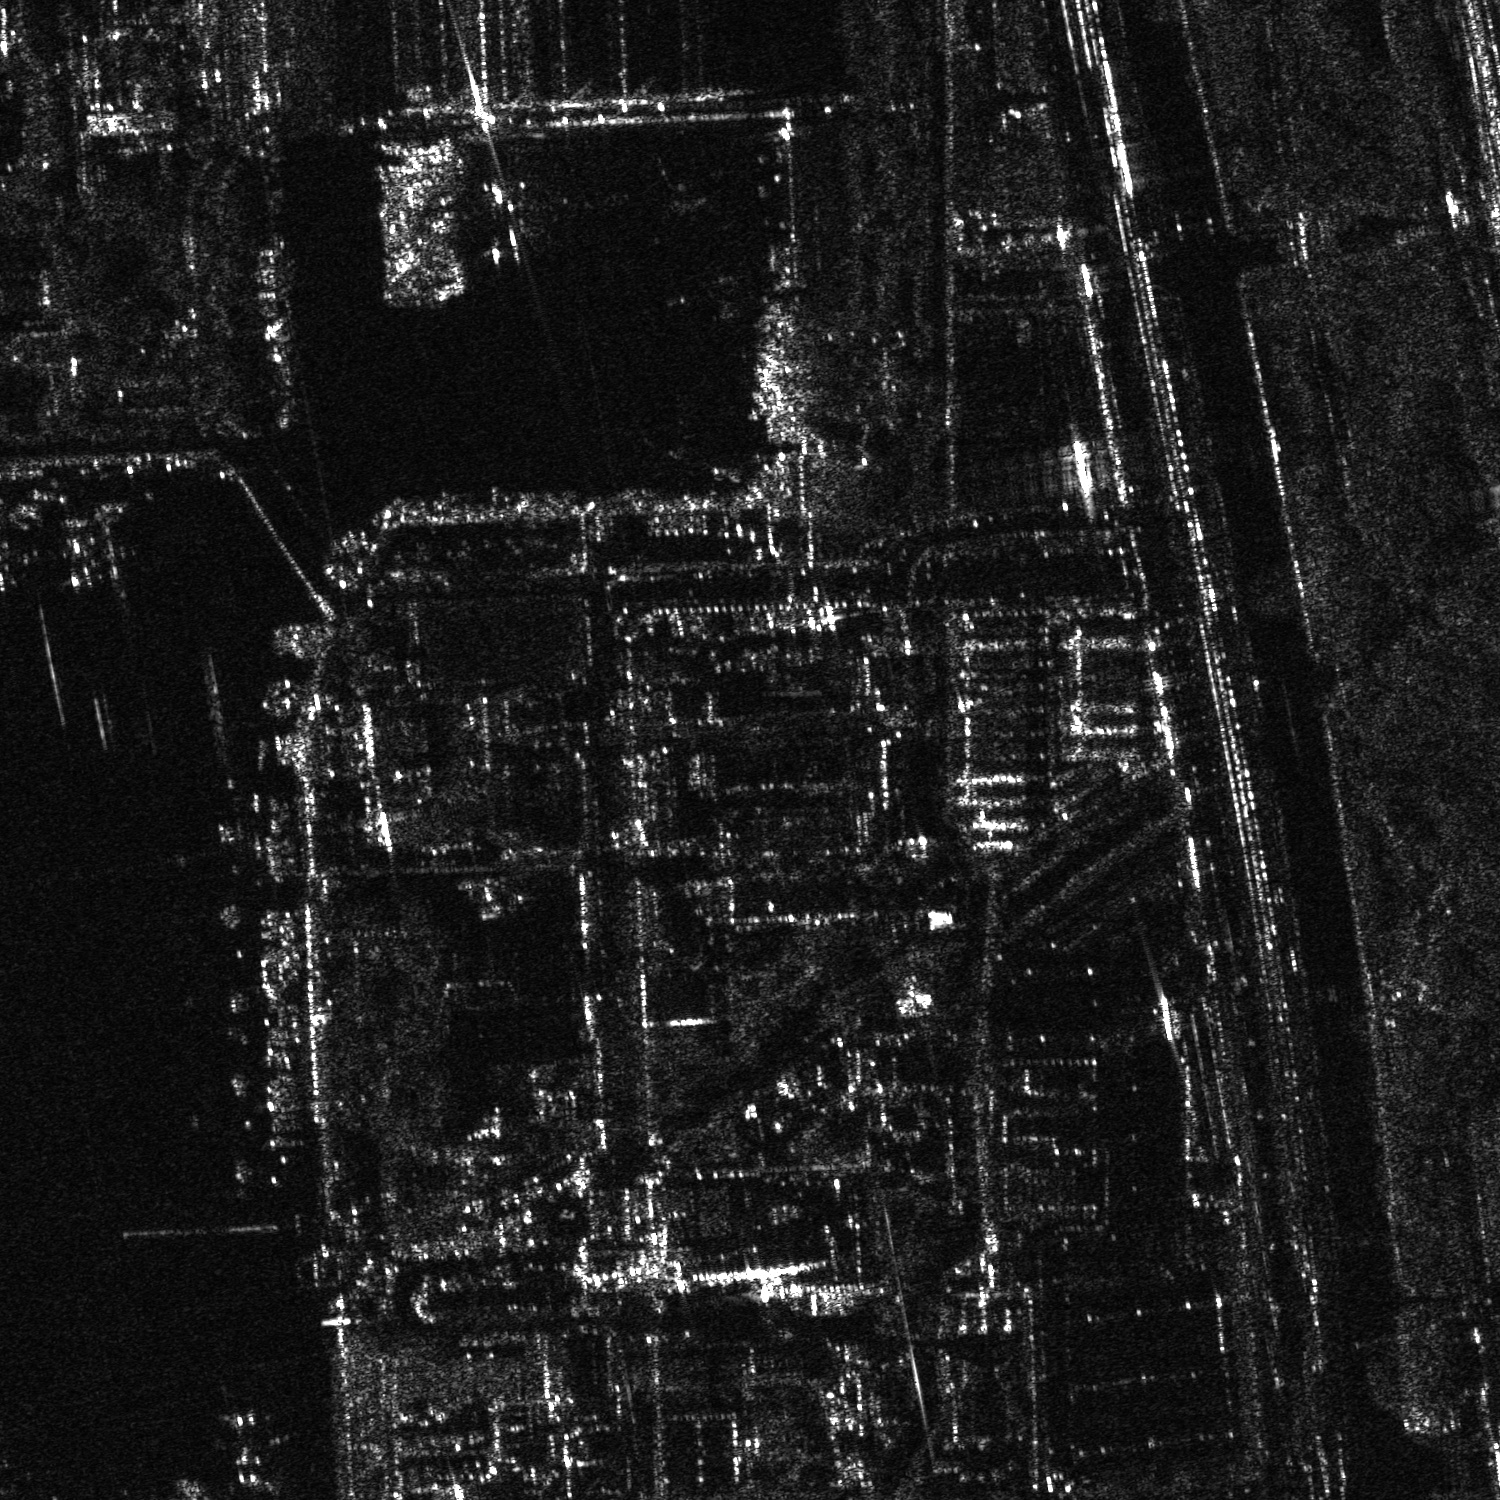A220: (205, 1409, 297, 1495)
Boeing737: (473, 176, 551, 266), (49, 514, 118, 593)
other: (609, 157, 712, 245)
